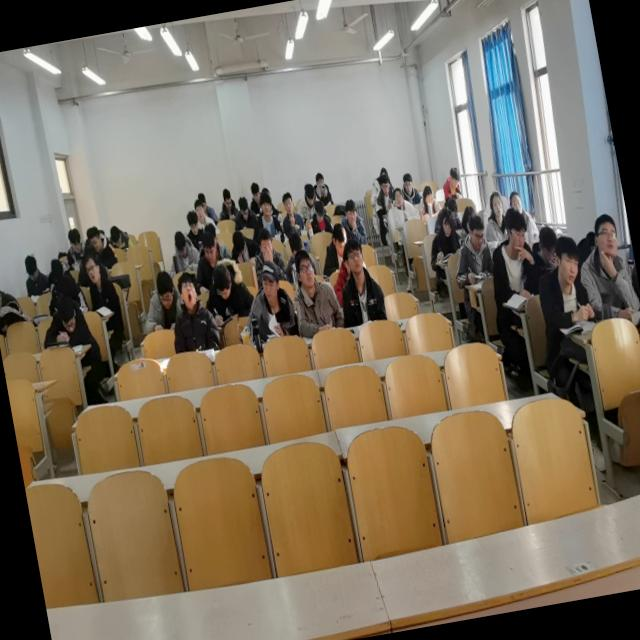bow: (34, 289, 96, 352), (226, 222, 258, 262), (0, 275, 22, 321), (107, 221, 134, 253)
down: (199, 256, 258, 324), (502, 207, 530, 256), (534, 220, 562, 268), (152, 269, 178, 314), (210, 260, 236, 303), (54, 294, 80, 334), (329, 220, 352, 260), (466, 213, 488, 250), (198, 228, 218, 264), (438, 206, 457, 239), (48, 256, 66, 287), (66, 224, 84, 254), (172, 228, 190, 258), (230, 228, 248, 258), (87, 224, 104, 254), (22, 255, 40, 282), (236, 194, 252, 221), (421, 183, 436, 210), (302, 182, 317, 208), (109, 224, 124, 248), (312, 198, 326, 223), (220, 187, 233, 212), (249, 181, 262, 205), (448, 166, 461, 189), (0, 281, 5, 313)
lookup: (246, 191, 284, 244), (549, 231, 582, 286), (590, 210, 622, 259), (291, 247, 319, 291), (174, 268, 202, 312), (256, 258, 282, 305), (340, 234, 367, 276), (82, 250, 102, 282), (257, 228, 276, 260), (487, 189, 506, 218), (506, 187, 524, 217), (256, 190, 274, 218), (184, 208, 200, 237), (280, 188, 296, 216), (342, 198, 358, 225), (378, 172, 391, 197), (400, 172, 414, 195), (193, 198, 206, 222), (392, 185, 404, 208), (314, 171, 326, 192)
sit: (571, 207, 640, 322), (527, 228, 596, 334), (480, 205, 542, 307), (284, 243, 346, 338), (328, 232, 388, 328), (239, 256, 300, 344), (162, 268, 221, 354), (444, 210, 497, 288), (136, 268, 184, 332), (245, 224, 288, 288), (187, 228, 226, 296), (422, 205, 464, 268), (80, 248, 120, 314), (314, 218, 354, 278), (478, 188, 513, 246), (162, 226, 202, 275), (508, 184, 540, 244), (86, 222, 118, 272), (336, 194, 366, 247), (59, 223, 90, 268), (21, 252, 51, 298), (387, 182, 419, 225), (276, 190, 304, 238), (302, 196, 334, 238), (368, 168, 396, 214), (294, 181, 322, 225), (414, 183, 443, 223), (230, 191, 258, 230), (182, 208, 206, 252), (213, 183, 240, 220), (398, 168, 422, 206), (439, 166, 463, 203), (192, 196, 216, 232), (310, 170, 332, 207), (244, 179, 264, 215), (196, 190, 218, 222)
